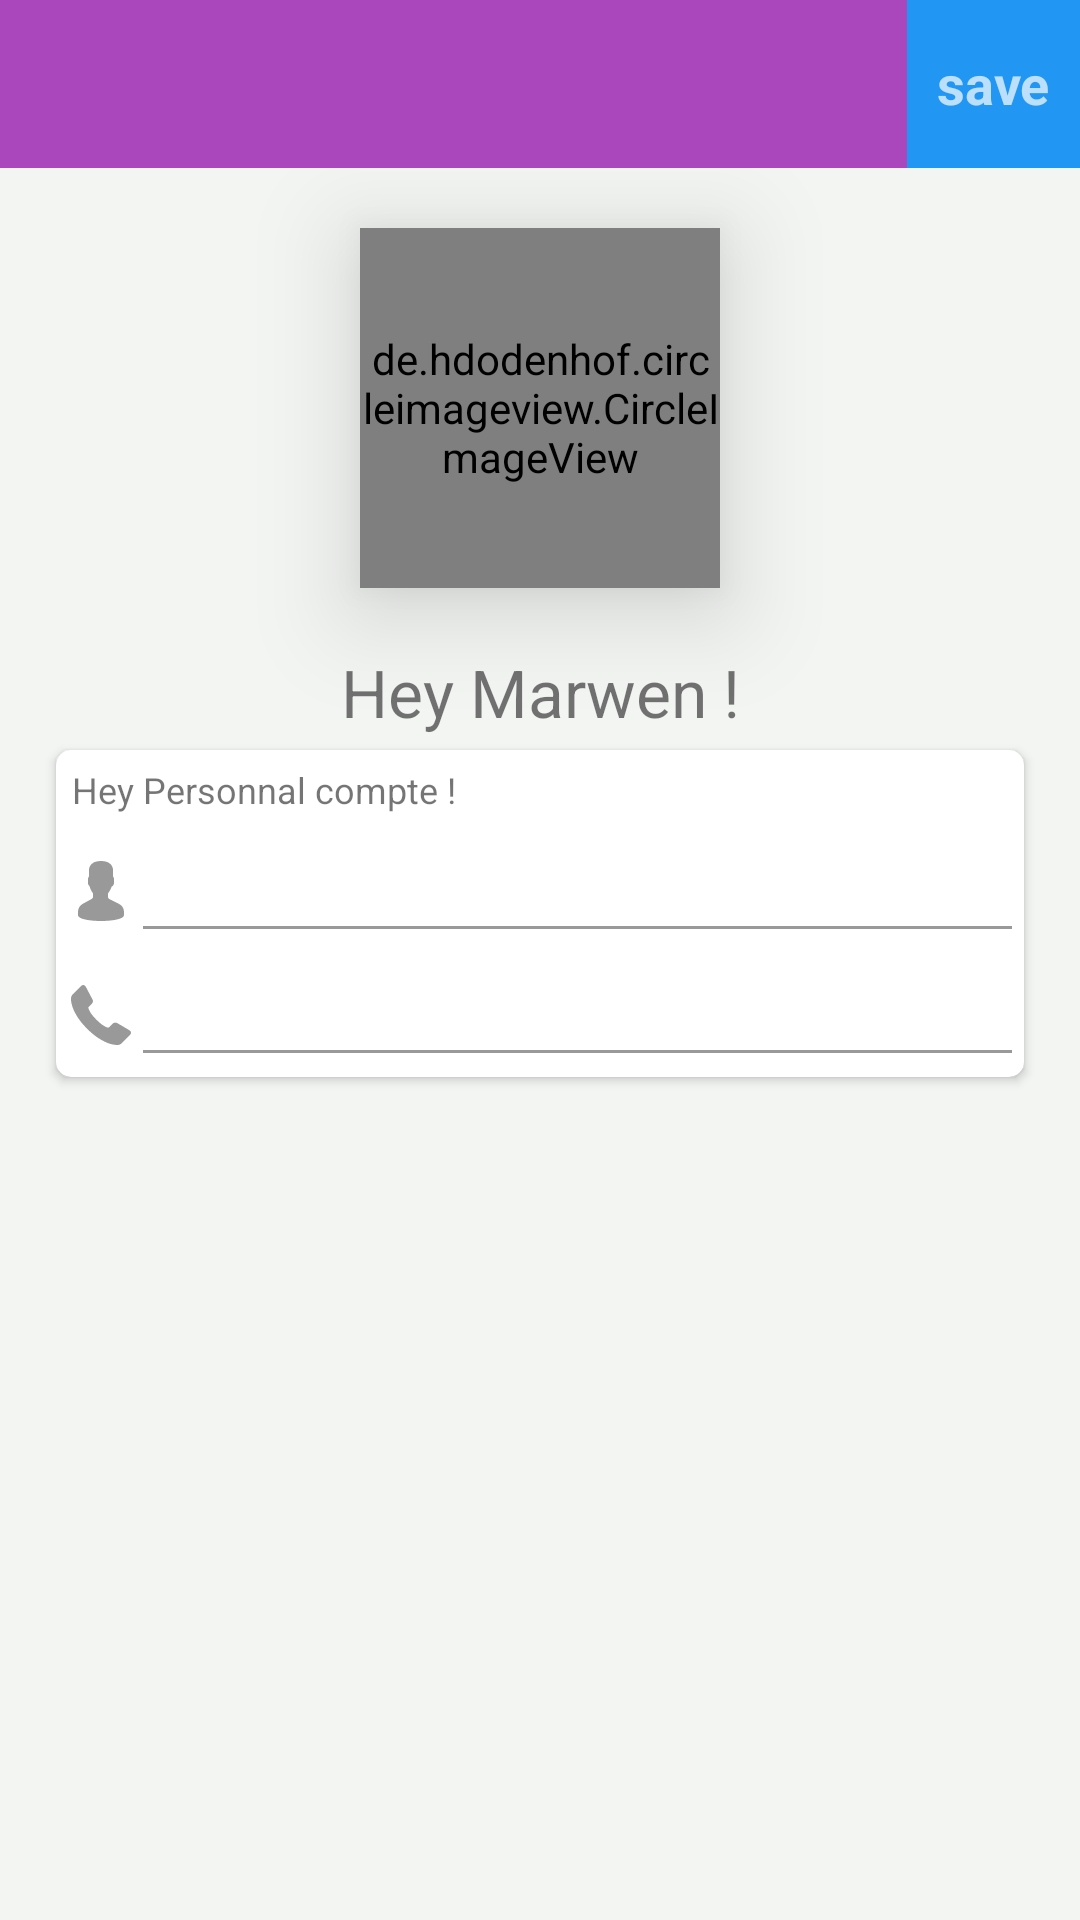

Named icons in this screenshot (1080px×1920px) and their centers, point (x, y):
phone: point (101, 1015)
user: point (101, 891)
